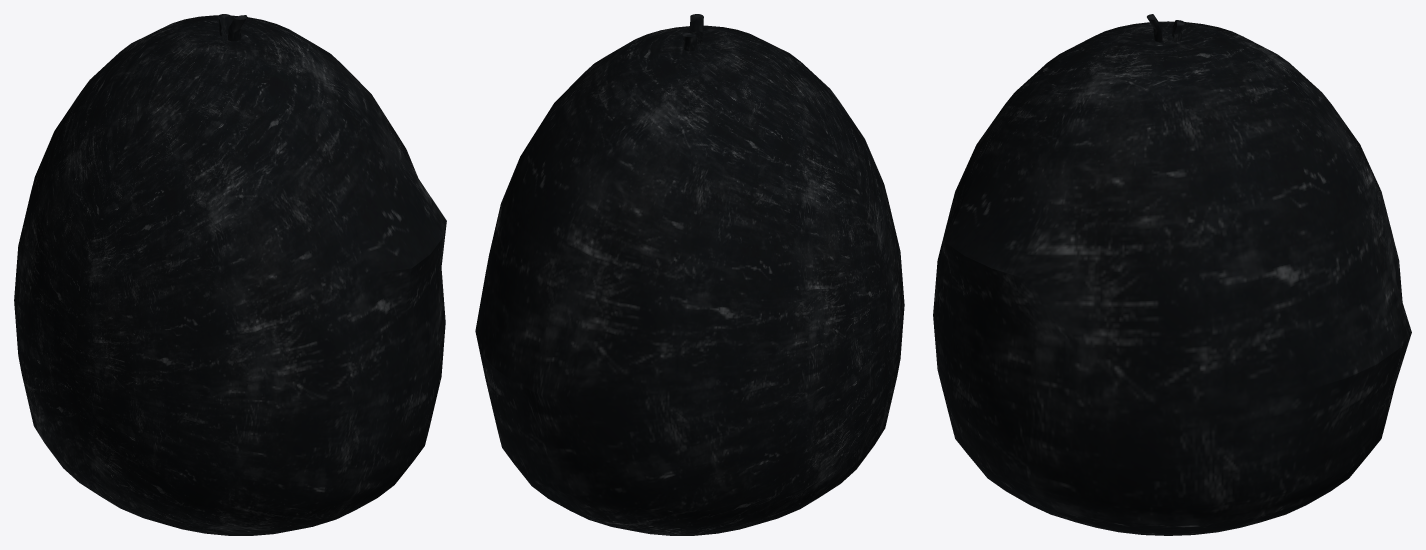
Rendered from basura.fbx.
3 renders of one model, left to right at view 1: azimuth 30°, elevation 25°; view 2: azimuth 150°, elevation 25°; view 3: azimuth 270°, elevation 25°, orthographic. The views are drawn at different scales.
Visible parts, largest first — view 1: Sphere; view 2: Sphere; view 3: Sphere.
Part boxes in pixels (<box>): Sphere: <box>14,14,446,535</box>; Sphere: <box>475,14,904,535</box>; Sphere: <box>933,14,1411,535</box>.
Size of the model in its own units: 95.59 by 124 by 109.
